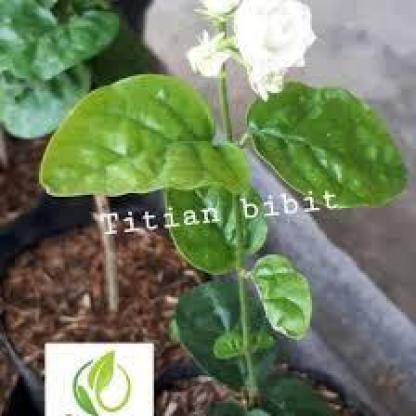Melati: (163, 1, 334, 118)
